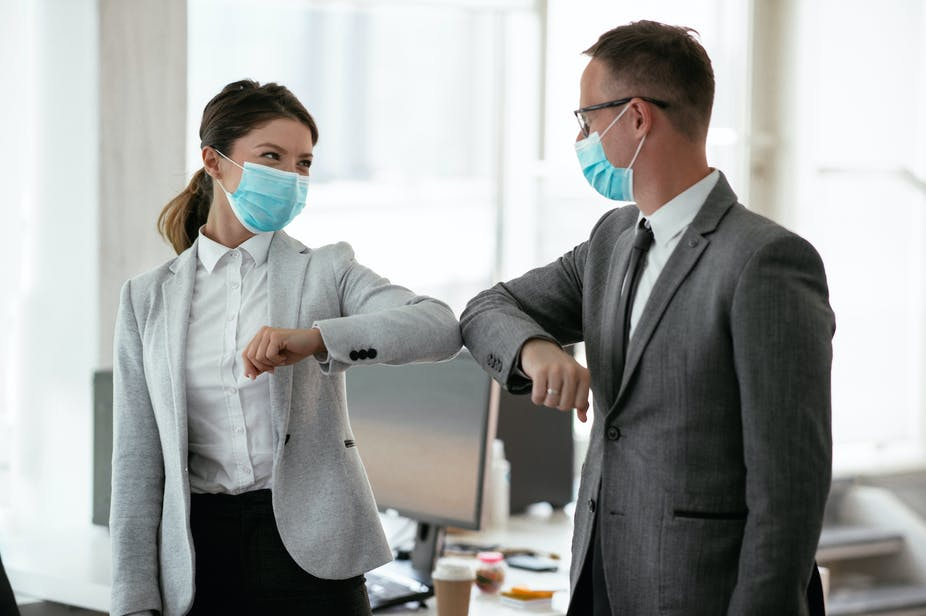with_mask: (566, 96, 660, 206), (233, 120, 318, 238)
